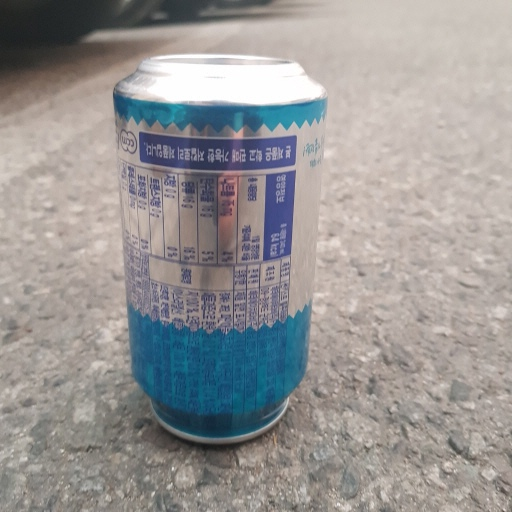Metal_0: (111, 53, 330, 450)
